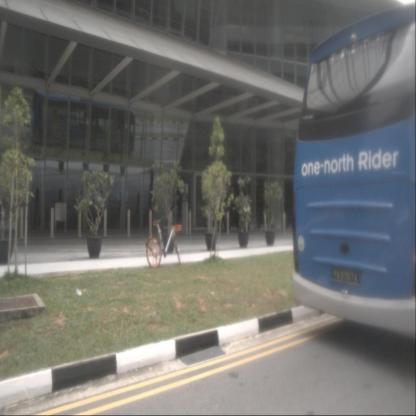vehicle-bicycle: (146, 206, 182, 268)
vehicle-bus-rigid: (290, 4, 416, 339), (31, 90, 135, 154)
